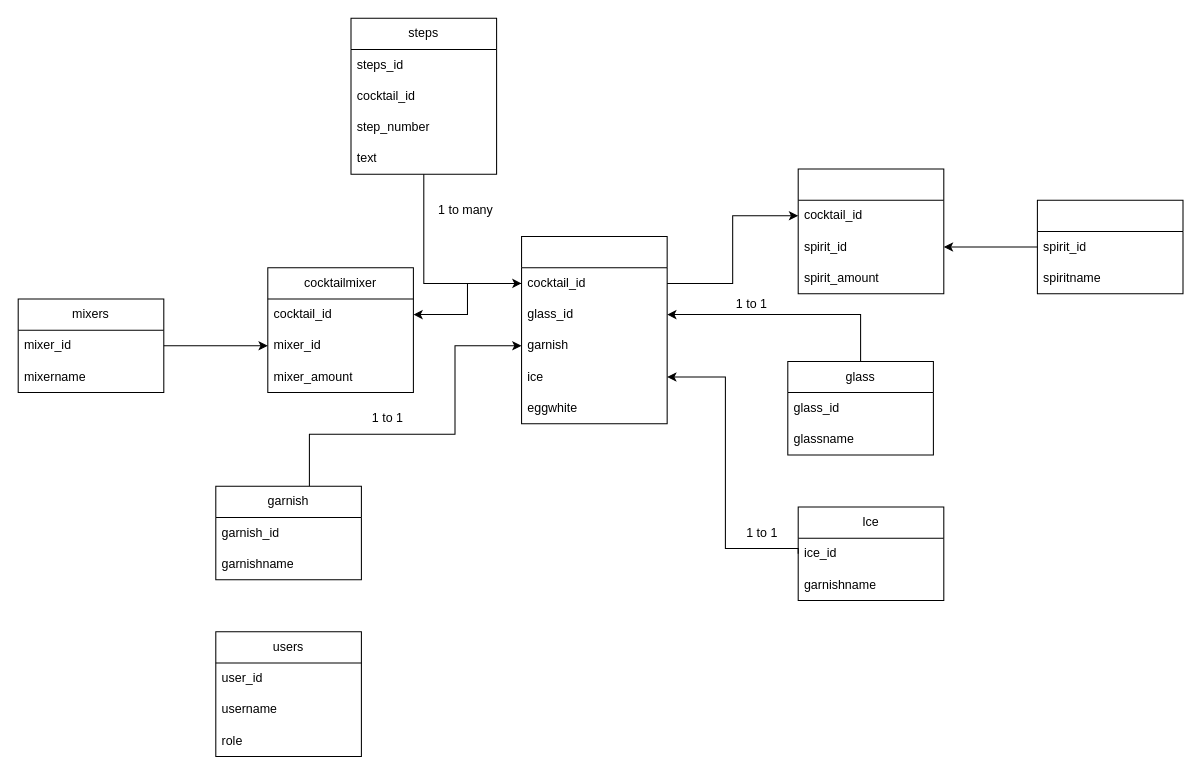
Image size: 1201x775. Some labels were removed from this diagram. The shapes that lost their labels are listed below. From the top down, each one's box as (x1, y1, x2, y2) in pixels, then its label:
(797, 168, 944, 294): cocktailspirit
(1036, 199, 1183, 294): spirits
(521, 236, 667, 424): cocktails
